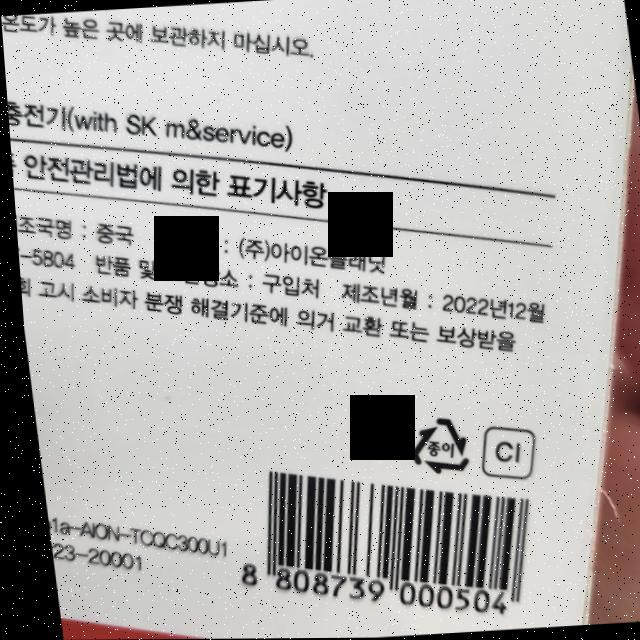Paper: (396, 412, 467, 479)
